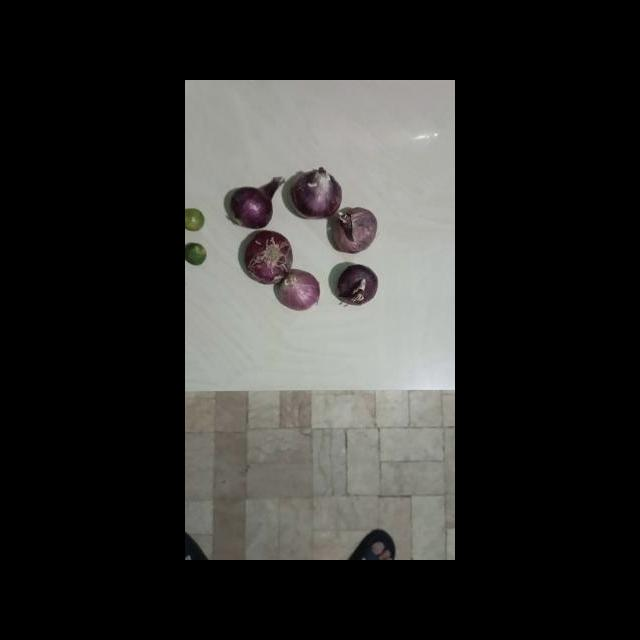onion: (226, 176, 284, 231), (293, 167, 342, 221), (244, 229, 292, 281), (333, 204, 378, 255), (273, 265, 321, 312), (334, 265, 381, 310)
